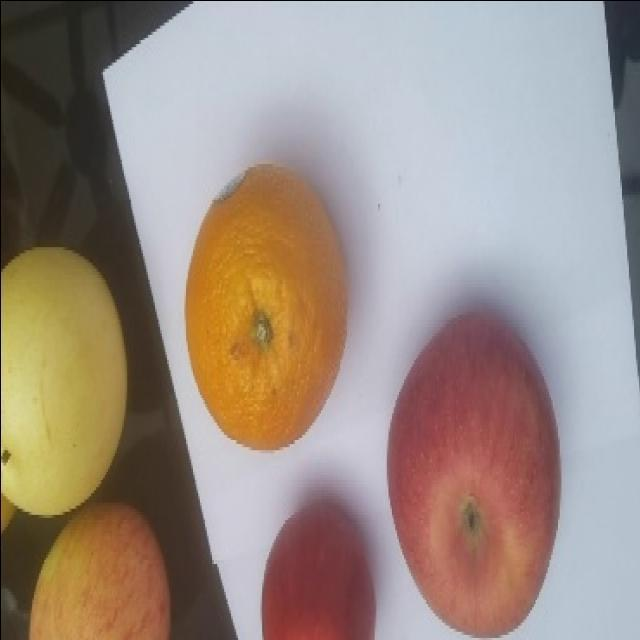Apple: (384, 311, 568, 638), (26, 498, 178, 640), (258, 498, 380, 640)
Orange: (184, 164, 354, 460)
